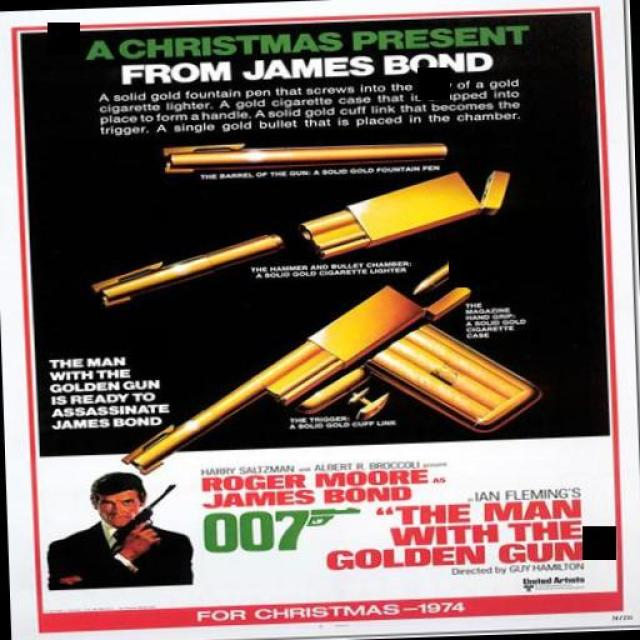gun: (96, 250, 542, 469), (101, 478, 181, 562)
